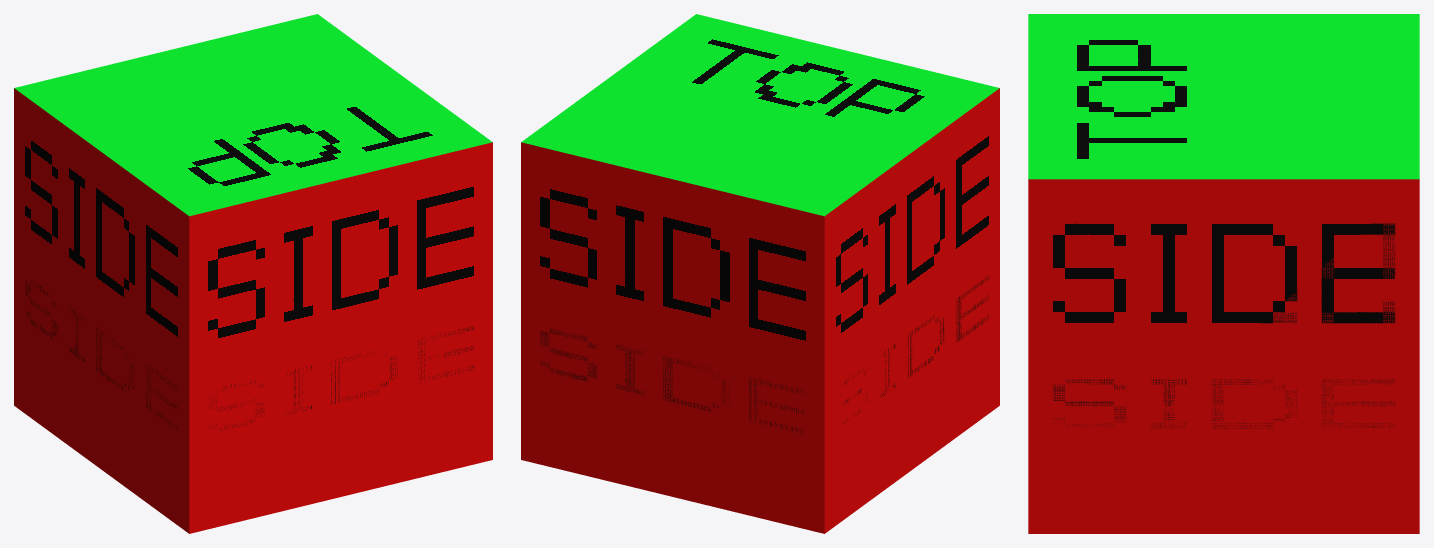
File: basic.glb
3 renders of one model, left to right at view 1: azimuth 30°, elevation 25°; view 2: azimuth 150°, elevation 25°; view 3: azimuth 270°, elevation 25°, orthographic. The views are drawn at different scales.
Parts seen in each view (by area): view 1: Full, HalfHeight; view 2: Full, HalfHeight; view 3: Full, Ramp, HalfHeight.
Boxes of the visible parts, left/top/right/bottom form: Full: left=14, top=14, right=492, bottom=533; HalfHeight: left=14, top=249, right=492, bottom=533; Full: left=521, top=14, right=999, bottom=533; HalfHeight: left=521, top=248, right=999, bottom=533; Full: left=1028, top=14, right=1419, bottom=533; Ramp: left=1029, top=180, right=1419, bottom=533; HalfHeight: left=1028, top=356, right=1419, bottom=533.
Size of the model in its own units: 1 by 1 by 1.
Materials: 1 (1 with a texture image).
